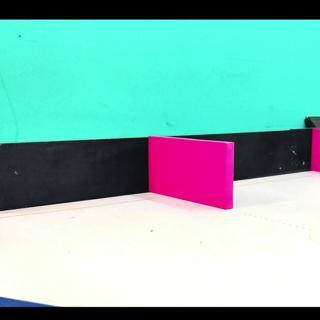xparking: (152, 145, 233, 204), (314, 133, 318, 174)
